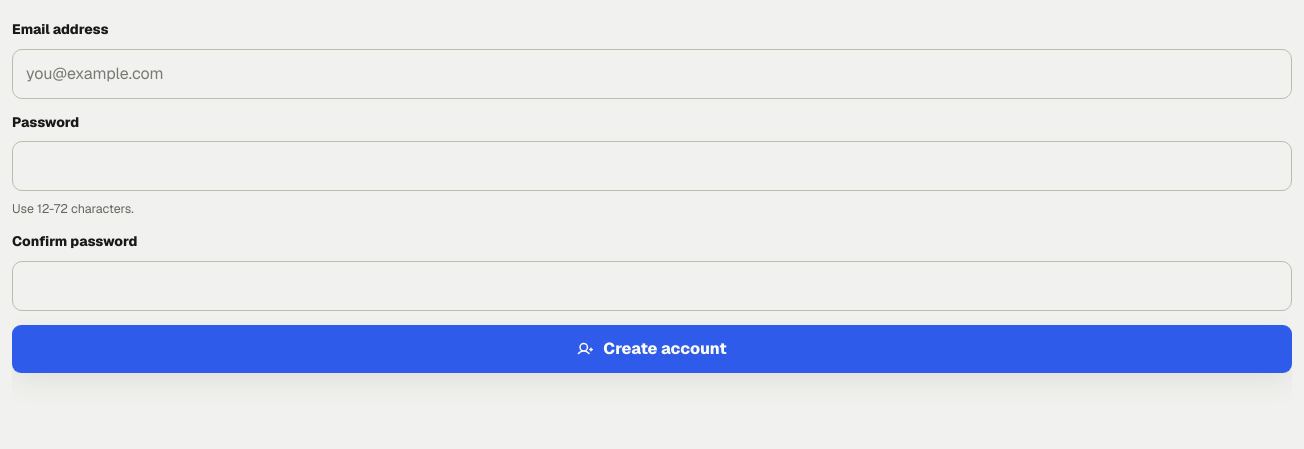
Test: PasswordSignUpForm › replaces the signup form with a distinct check-email state and can return to edit
The image size is (1304, 449).
Type "student@example.com" into the field labelled "Email address" at (652, 74), box [12,49,1292,99]
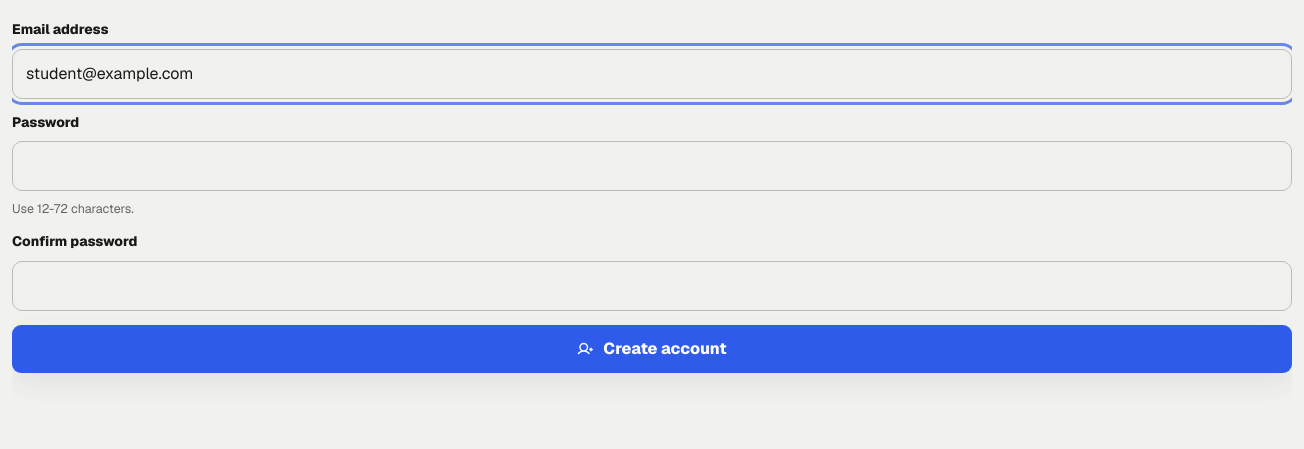
Type "three calm otters" into the password field labelled "Password" at (652, 166), box [12,141,1292,191]
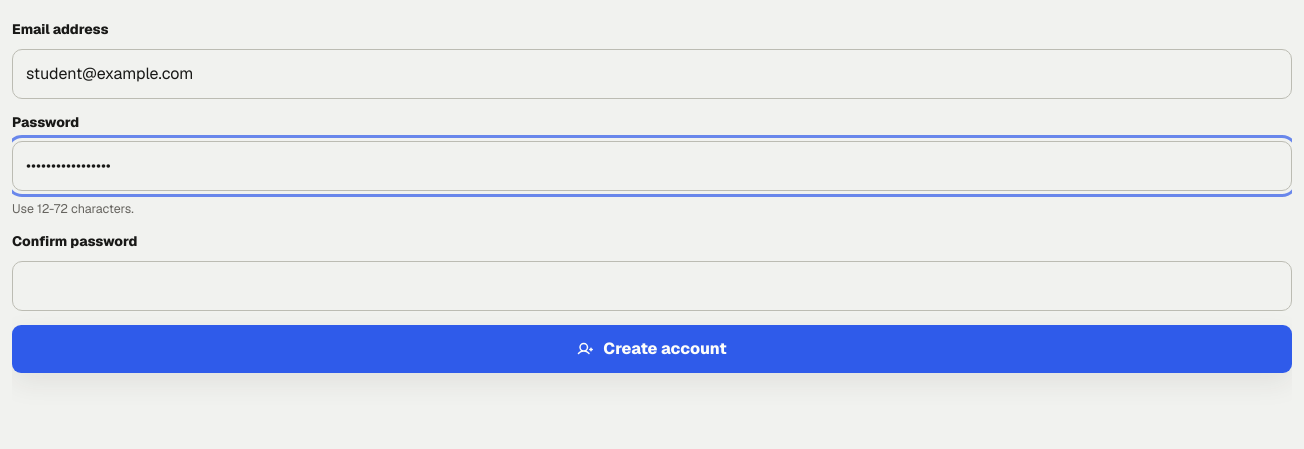
Type "three calm otters" into the password field labelled "Confirm password" at (652, 286), box [12,261,1292,311]
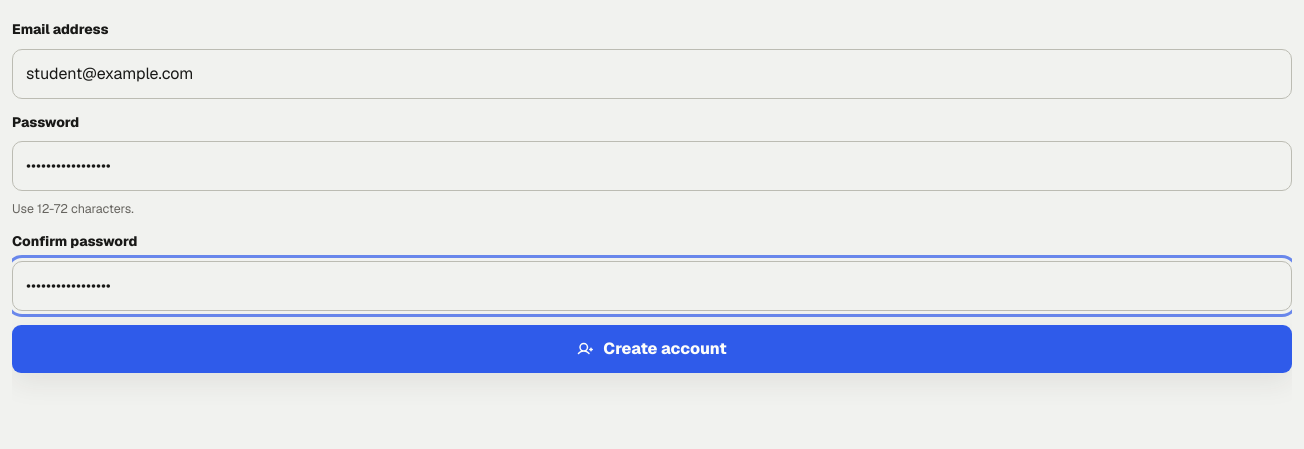
Click the button "Create account" at (652, 349), box [12,325,1292,373]
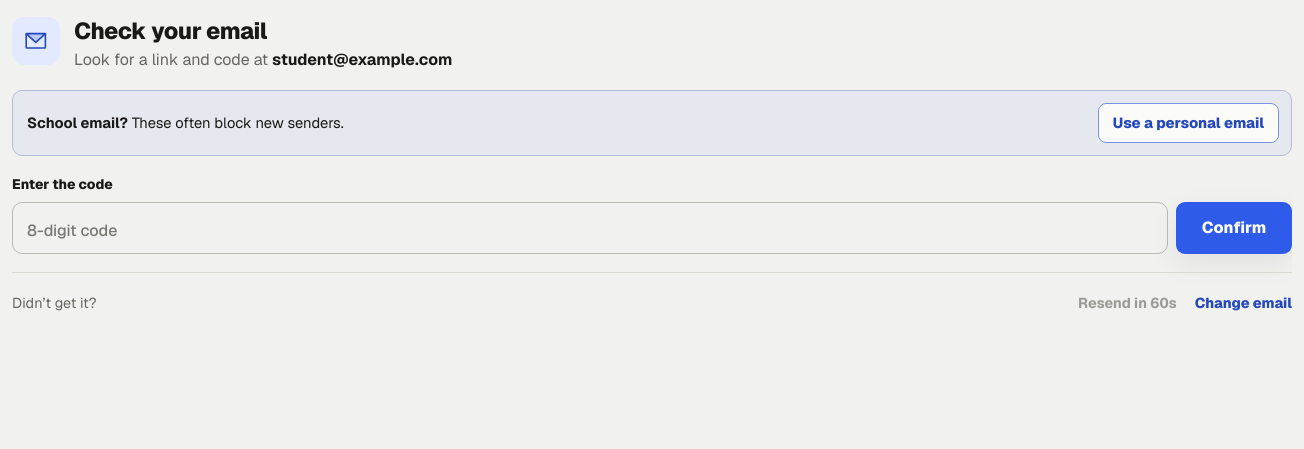
Expected: the heading "Check your email" is shown, [74,16,267,46]
Expected: the text "student@example.com" is shown, [272,48,452,72]
Expected: the text "Look for a link and code at student@example.com" is shown, [74,49,452,70]
Click the button "Change email" at (1243, 304), box [1195,289,1292,319]
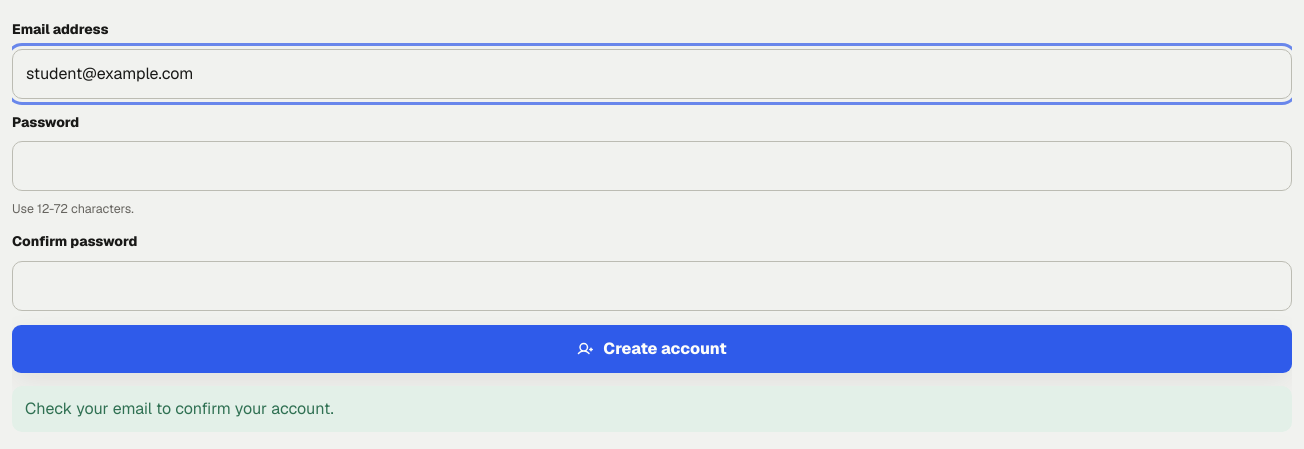
Expected: the field labelled "Email address" holds "student@example.com", [12,49,1292,99]
Expected: the password field labelled "Password" is shown, [12,141,1292,191]
